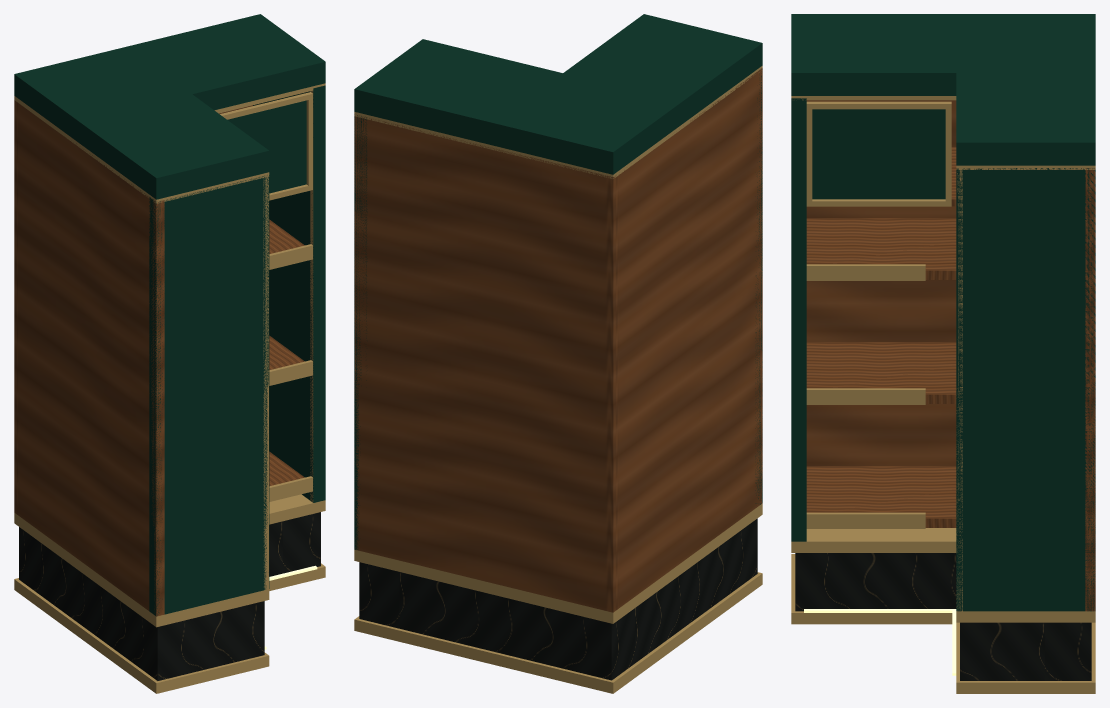
3 views of the same model, side by side, from view 1: azimuth 30°, elevation 25°; view 2: azimuth 150°, elevation 25°; view 3: azimuth 270°, elevation 25° (orthographic). The views are drawn at different scales.
Parts seen in each view (by area): view 1: cabinet_back_B, cabinet_end_B, cabinet_crown, cabinet_stone_base, cabinet_end_A, trim_base_plinth, brand_header_front_panel, trim_base_top, trim_front_B, cabinet_corner_spine, trim_crown_lip, trim_front_A (+8 smaller); view 2: cabinet_back_A, cabinet_back_B, cabinet_crown, cabinet_stone_base, cabinet_corner_spine, trim_base_plinth, trim_base_top, cabinet_end_A, trim_crown_lip, cabinet_end_B; view 3: cabinet_end_A, cabinet_crown, cabinet_back_B, cabinet_stone_base, brand_header_side_panel, shelf_1, shelf_2, shelf_3, cabinet_end_B, trim_base_top, cabinet_back_A, trim_base_plinth (+10 smaller).
Part boxes in pixels (bbox=[...]): cabinet_back_B: bbox=[19, 103, 164, 616]; cabinet_end_B: bbox=[149, 175, 269, 616]; cabinet_crown: bbox=[14, 14, 325, 199]; cabinet_stone_base: bbox=[19, 512, 320, 680]; cabinet_end_A: bbox=[253, 85, 325, 502]; trim_base_plinth: bbox=[14, 563, 325, 693]; brand_header_front_panel: bbox=[227, 100, 306, 193]; trim_base_top: bbox=[14, 494, 325, 627]; trim_front_B: bbox=[263, 176, 268, 590]; cabinet_corner_spine: bbox=[14, 100, 18, 515]; trim_crown_lip: bbox=[14, 83, 325, 203]; trim_front_A: bbox=[310, 90, 313, 502]; cabinet_back_A: bbox=[354, 115, 604, 610]; cabinet_back_B: bbox=[618, 68, 762, 608]; cabinet_crown: bbox=[354, 14, 762, 174]; cabinet_stone_base: bbox=[359, 518, 757, 680]; cabinet_corner_spine: bbox=[604, 175, 618, 612]; trim_base_plinth: bbox=[354, 572, 762, 693]; trim_base_top: bbox=[354, 503, 762, 623]; cabinet_end_A: bbox=[354, 114, 367, 549]; trim_crown_lip: bbox=[354, 66, 762, 178]; cabinet_end_B: bbox=[755, 69, 762, 504]; cabinet_end_A: bbox=[956, 168, 1095, 611]; cabinet_crown: bbox=[791, 14, 1095, 165]; cabinet_back_B: bbox=[806, 100, 956, 466]; cabinet_stone_base: bbox=[795, 553, 1091, 680]; brand_header_side_panel: bbox=[812, 109, 945, 199]; shelf_1: bbox=[806, 466, 956, 527]; shelf_2: bbox=[806, 342, 956, 403]; shelf_3: bbox=[806, 218, 956, 279]; cabinet_end_B: bbox=[791, 98, 806, 541]; trim_base_top: bbox=[791, 528, 1095, 622]; cabinet_back_A: bbox=[1085, 168, 1095, 611]; trim_base_plinth: bbox=[791, 554, 1095, 693].
Bounding box in the file's own units: 1.2 × 2.4 × 1.2.
5 materials, 2 textured.
